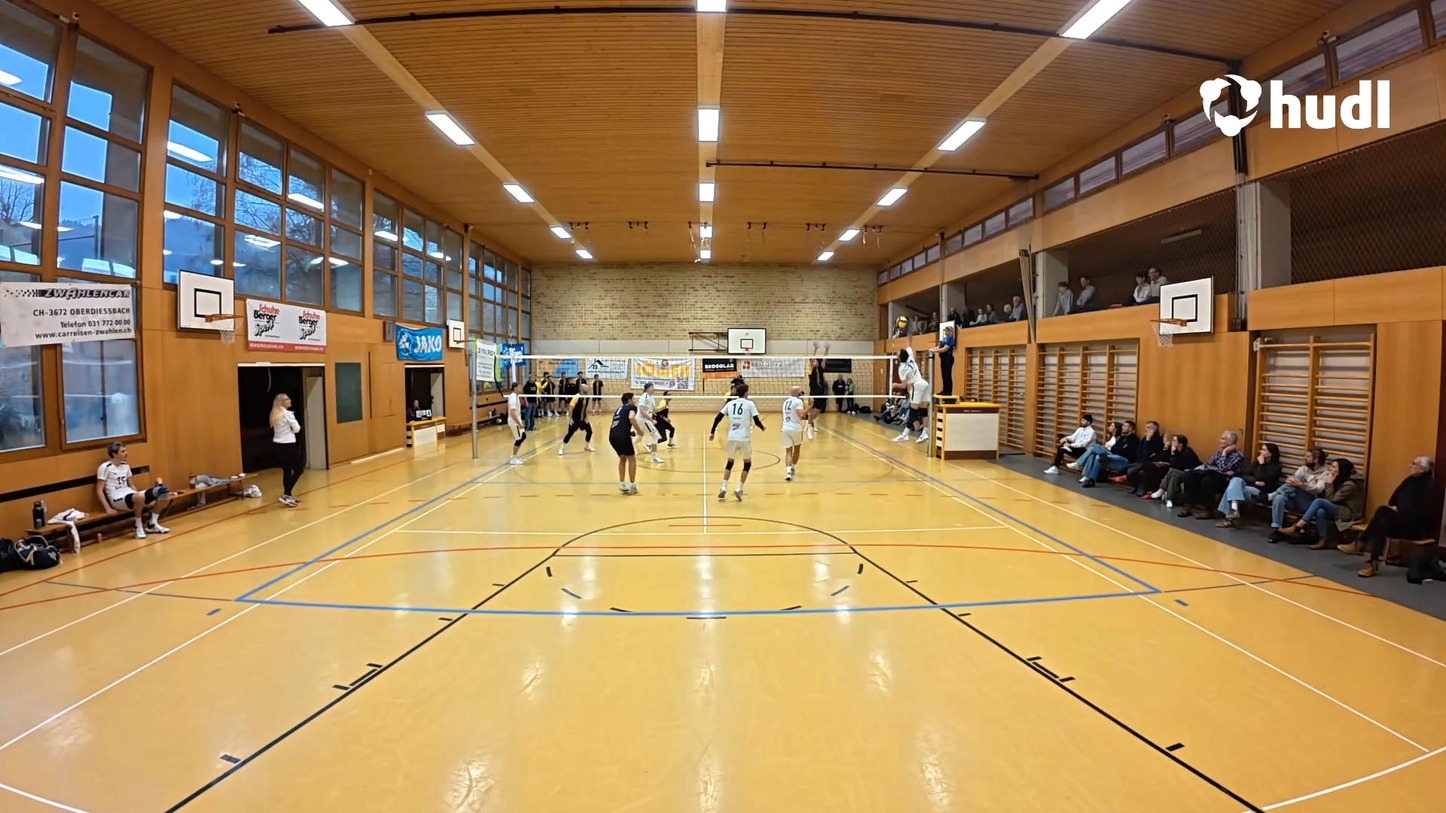Attack: (887, 314, 931, 445)
Block: (798, 338, 832, 439)
Player: (716, 379, 764, 501), (606, 390, 639, 494), (776, 381, 808, 483), (505, 380, 540, 464), (557, 384, 596, 457), (636, 382, 666, 464), (651, 388, 680, 452), (795, 384, 814, 441)
ball: (893, 314, 907, 330)
